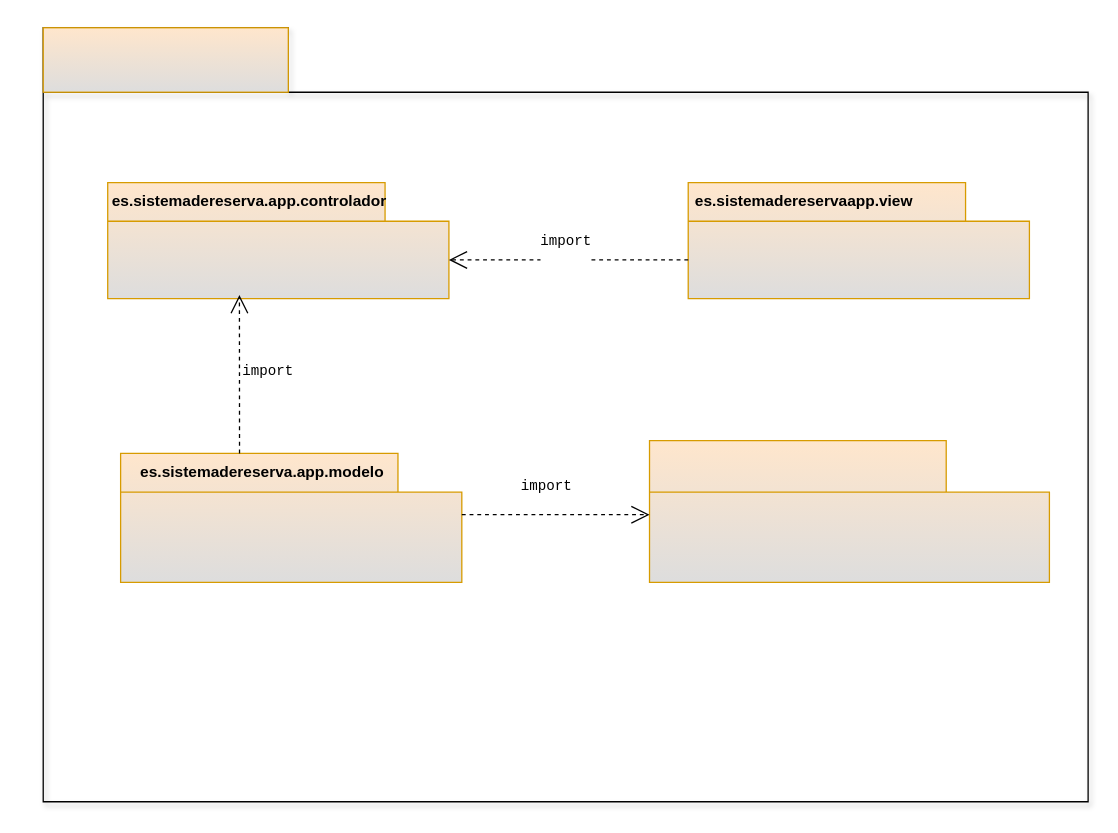
This 1118x833 diagram has some shape labels left out. Here are the shapes that lost their labels. From the top down, the centre of each, then its label:
At (165,59): "es.sistemadereserva.app".
At (848,510): "es.sistemadereserva.app.config".
